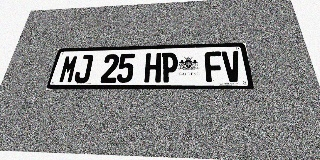2: (100, 54, 120, 83)
5: (116, 54, 135, 83)
F: (204, 51, 224, 82)
H: (144, 53, 161, 83)
J: (73, 55, 94, 83)
M: (58, 55, 79, 83)
P: (161, 52, 178, 82)
V: (221, 51, 243, 82)
